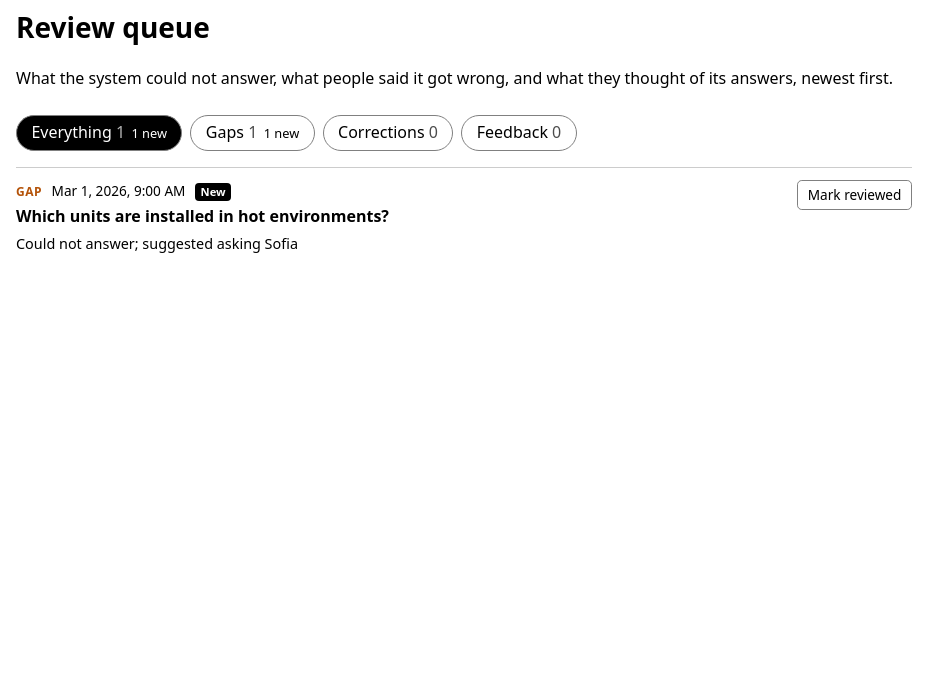
Test: the review page › shows the routing suggestion when a gap is opened
Click the button "hot environments" at (118, 190), box [16, 180, 781, 255]
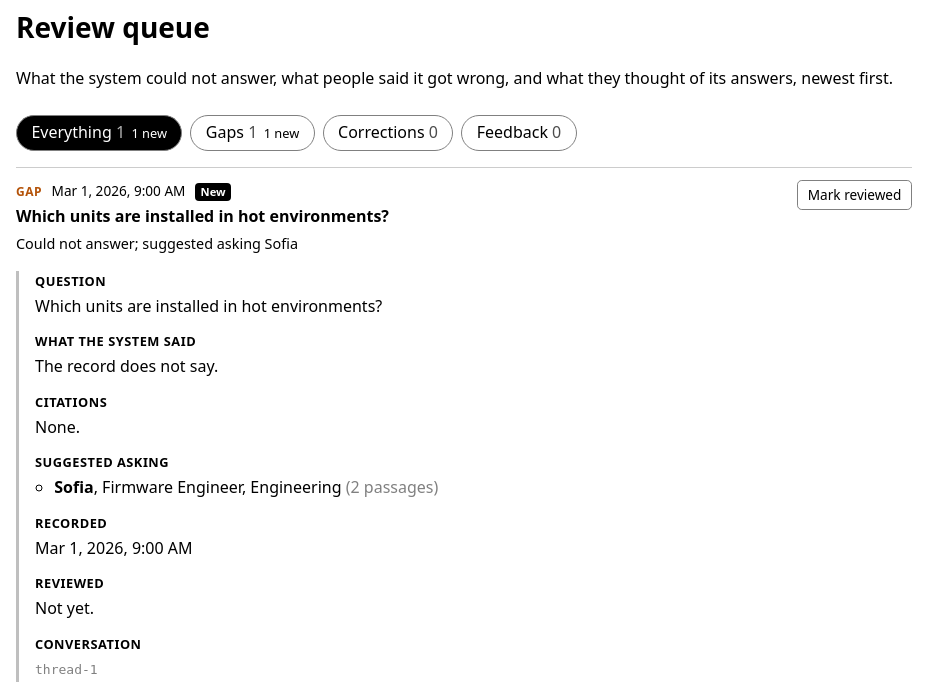
Expected: the element with id "record-gaps-2" shows "Sofia, Firmware Engineer", [16, 271, 912, 682]
